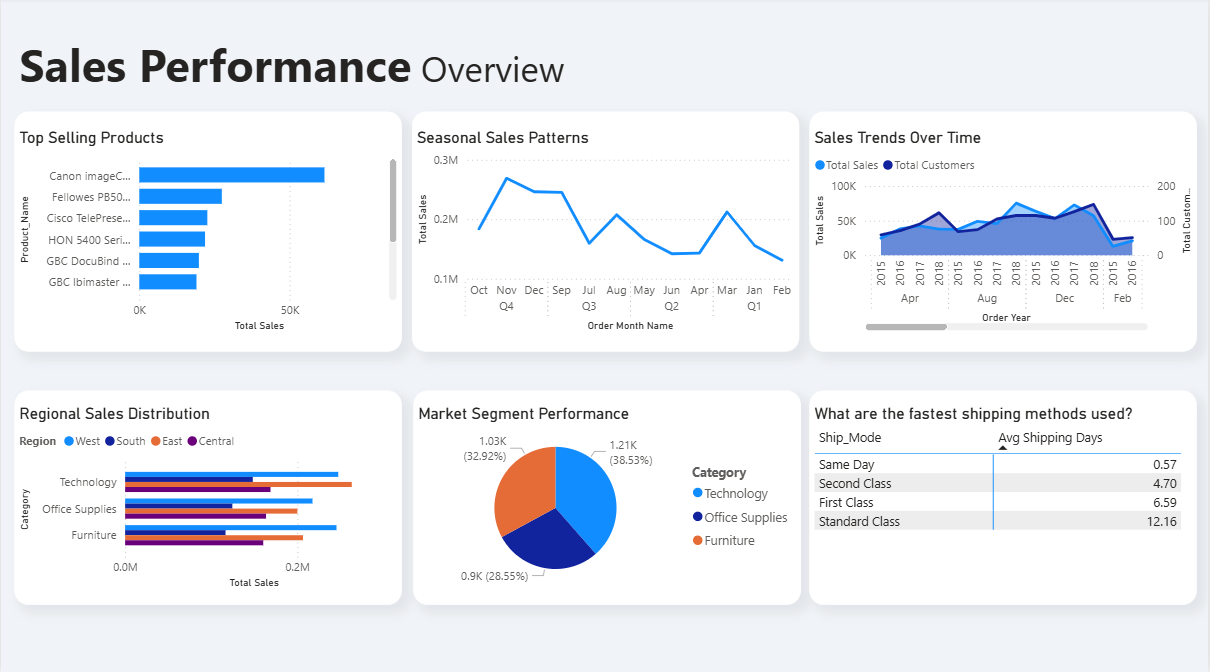

This screenshot's page, from the dashboard's own definition file:
{"tool":"powerbi","page":{"name":"Page ١","canvas":[1280,720],"ordinal":0},"visuals":[{"type":"shape","box":[14.3,122.5,410.4,254.5],"z":0},{"type":"barChart","title":"Top Selling Products","fields":{"Category":["Sales_Cleaned.Product_Name"],"Y":["Sales_Cleaned.Total Sales"]},"box":[15,139.8,410,220],"z":1000},{"type":"shape","box":[14.3,418.3,410.4,227.5],"z":1500},{"type":"clusteredBarChart","title":"Regional Sales Distribution","fields":{"Category":["Sales_Cleaned.Category"],"Series":["Sales_Cleaned.Region"],"Y":["Sales_Cleaned.Total Sales"]},"box":[15,432.8,410,200],"z":2000},{"type":"shape","box":[435.8,122.5,410.4,254.5],"z":2500},{"type":"lineChart","title":"Seasonal Sales Patterns","fields":{"Y":["Sales_Cleaned.Total Sales"],"Category":["Sales_Cleaned.Quarter","Sales_Cleaned.Order Month Name"]},"box":[435.8,140,408.8,219.5],"z":3000},{"type":"shape","box":[857.3,122.5,410.4,254.5],"z":3500},{"type":"areaChart","title":"Sales Trends Over Time","fields":{"Category":["Sales_Cleaned.Order Month Name","Sales_Cleaned.Order Year"],"Y":["Sales_Cleaned.Total Sales"],"Y2":["Sales_Cleaned.Total Customers"]},"box":[857,140,410.4,219.5],"z":4000},{"type":"shape","box":[437.4,418.3,410.4,227.5],"z":4500},{"type":"pieChart","title":"Market Segment Performance","fields":{"Category":["Sales_Cleaned.Category"],"Y":["Sales_Cleaned.Value per Customer"]},"box":[437.4,432.6,410.4,200.4],"z":5000},{"type":"shape","box":[857.3,418.3,410.4,227.5],"z":5500},{"type":"pivotTable","title":"What are the fastest shipping methods used?","fields":{"Rows":["Sales_Cleaned.Ship_Mode"],"Values":["Sales_Cleaned.Avg Shipping Days"]},"box":[858.9,432.6,408.8,200.4],"z":6000},{"type":"textbox","box":[14.3,33.4,1251.8,79.5],"z":7000}]}

Visuals, with their boxes in screenshot pixels (x1, y1, x2, y2), scaled from the page's 1280x720 canvas onto the 1210x672 screenshot:
shape: 14,114,401,352
"Top Selling Products" barChart: 14,130,402,336
shape: 14,390,401,603
"Regional Sales Distribution" clusteredBarChart: 14,404,402,591
shape: 412,114,800,352
"Seasonal Sales Patterns" lineChart: 412,131,798,336
shape: 810,114,1198,352
"Sales Trends Over Time" areaChart: 810,131,1198,336
shape: 413,390,801,603
"Market Segment Performance" pieChart: 413,404,801,591
shape: 810,390,1198,603
"What are the fastest shipping methods used?" pivotTable: 812,404,1198,591
textbox: 14,31,1197,105
